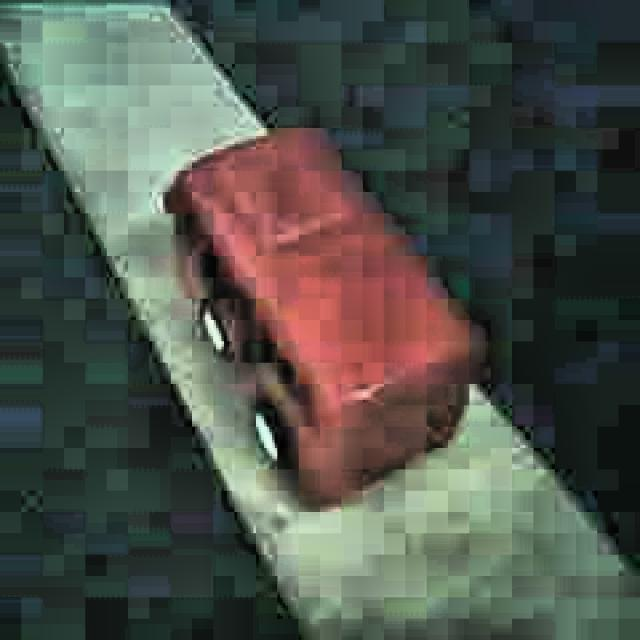bus: (161, 122, 475, 516)
